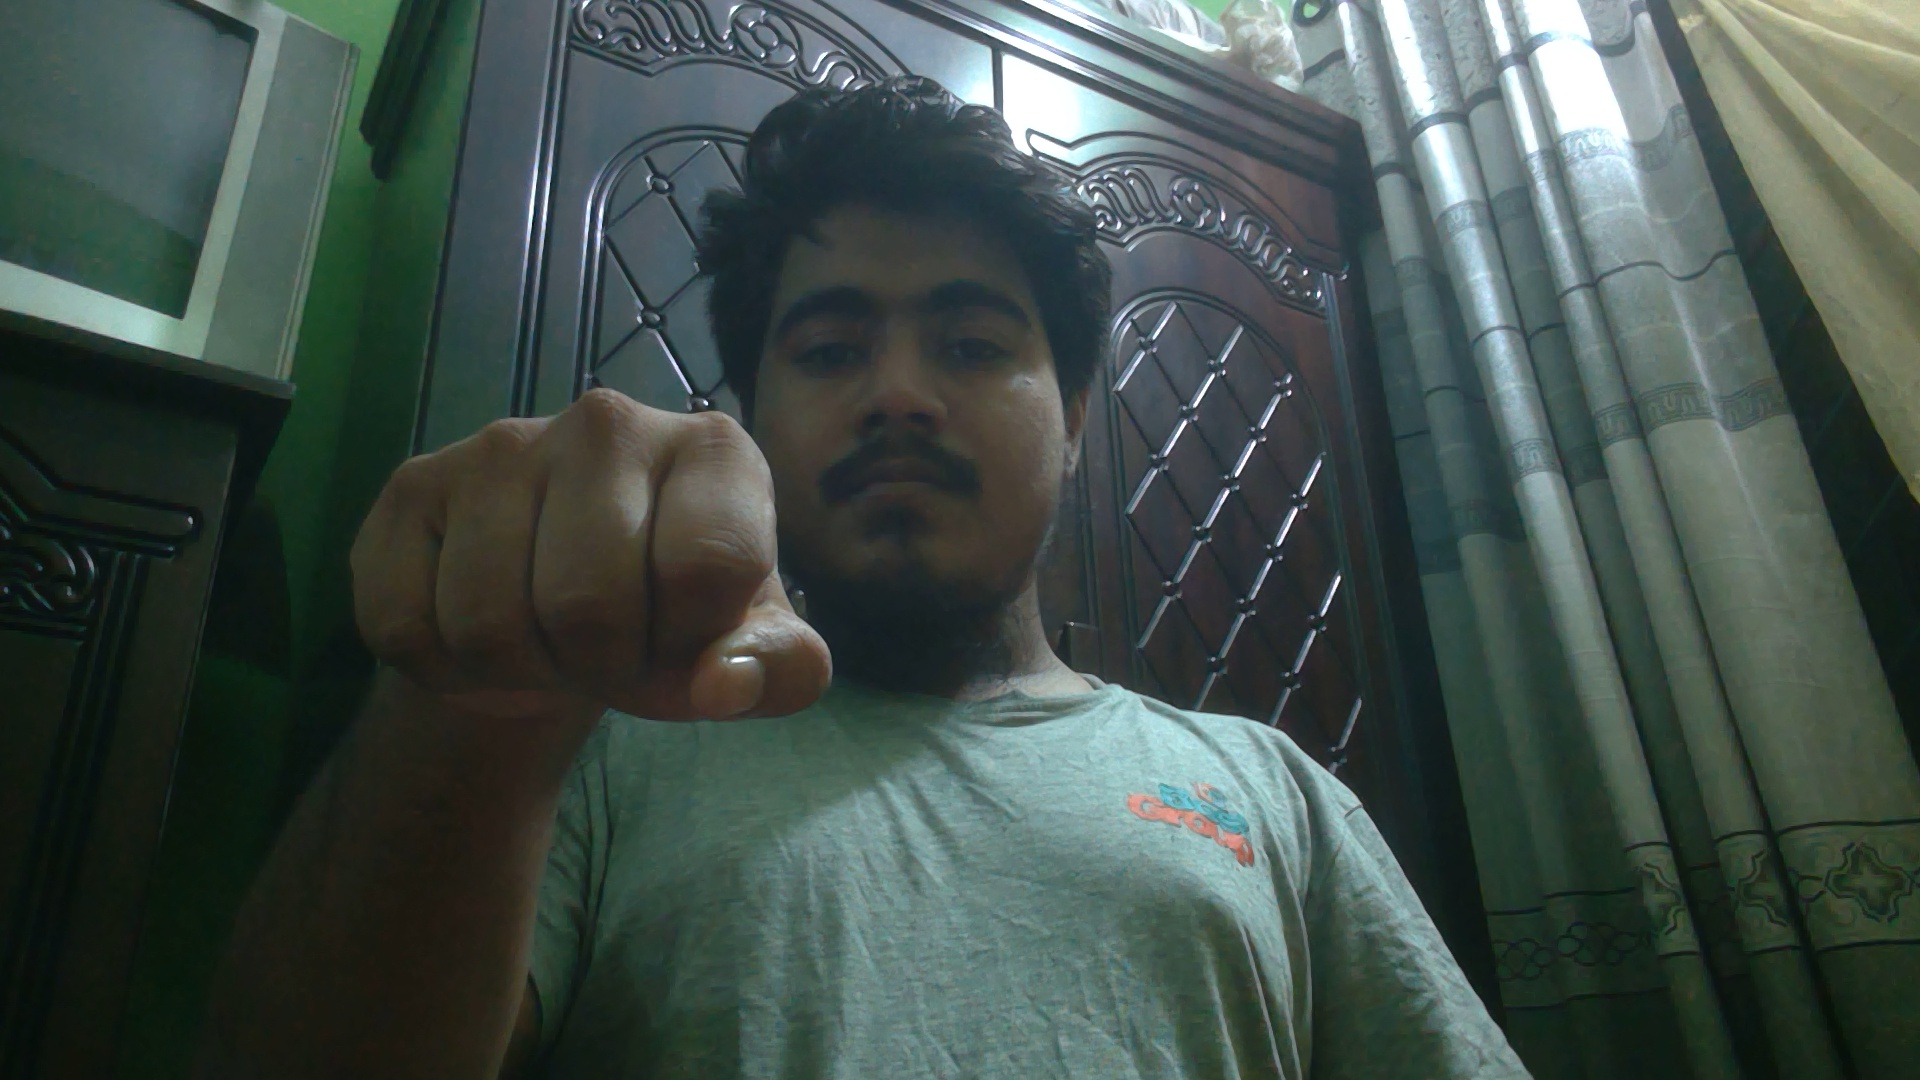yes: (338, 381, 841, 744)
